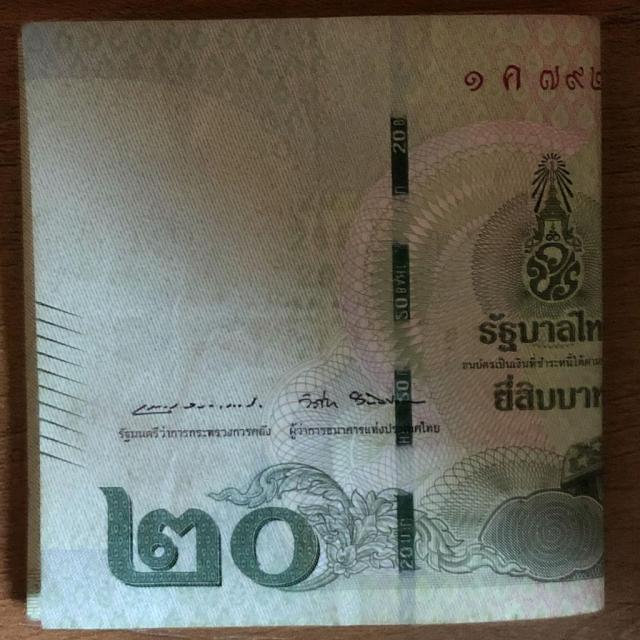THAI20: (21, 14, 604, 629)
